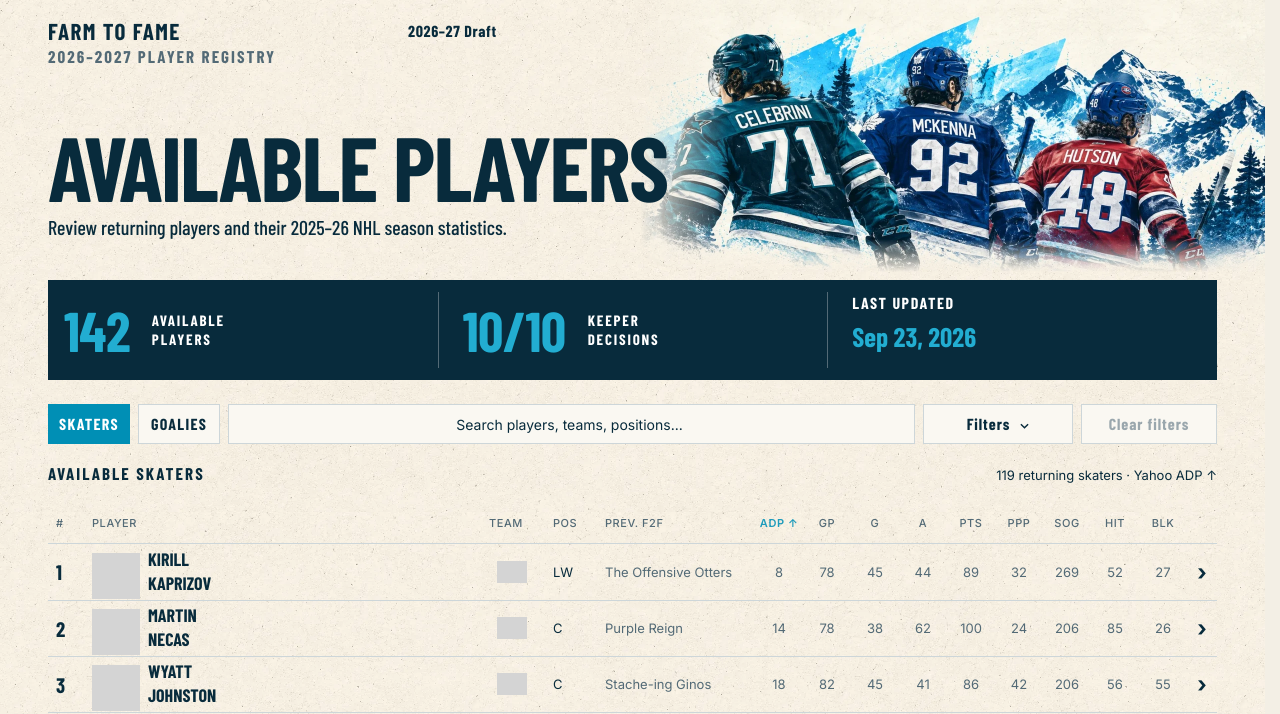
Test: Available Players page › lists all 32 NHL teams alphabetically, including teams with no available players
Click the button "Filters" at (998, 424), box [923,404,1073,444]
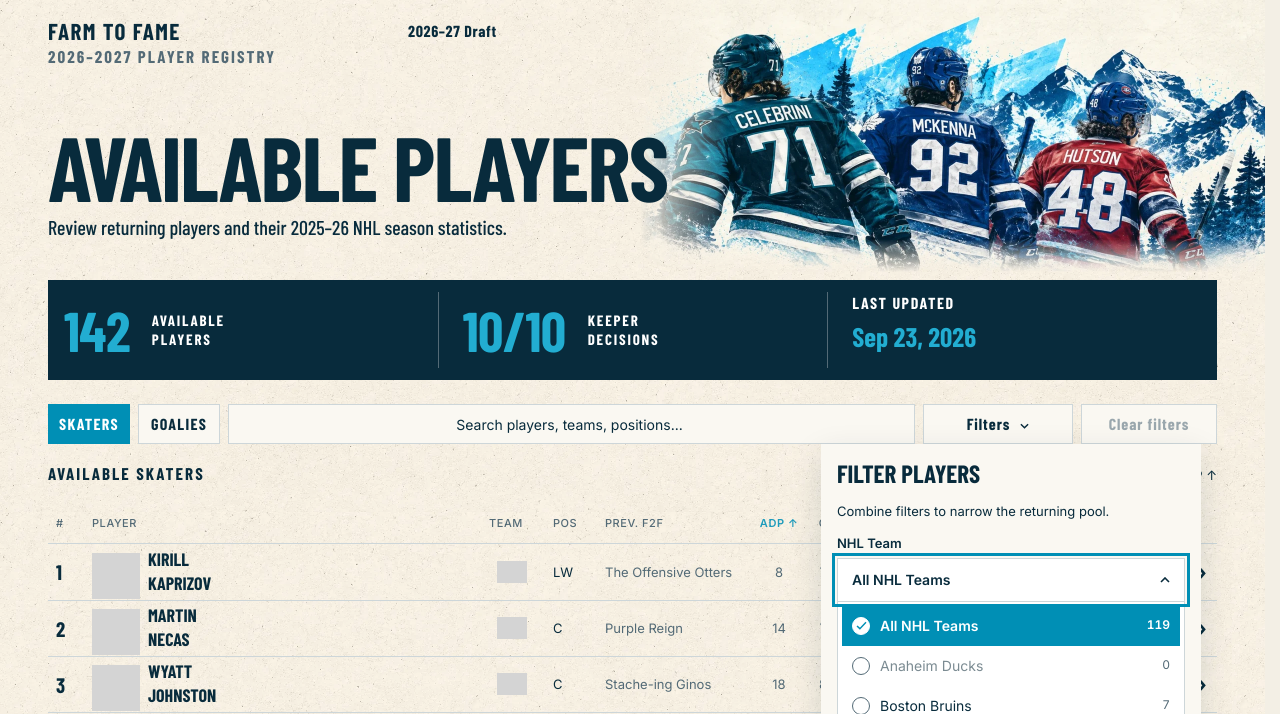
Expected: the 1st text "All NHL Teams" is shown, [852,570,950,590]
